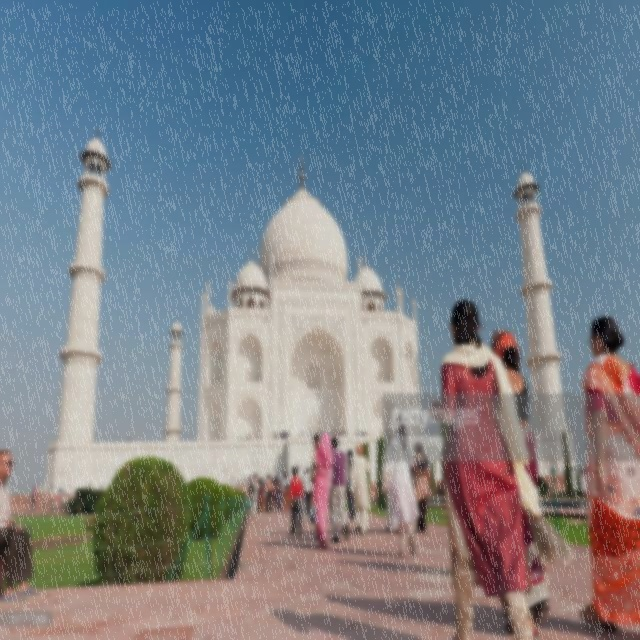pessoa: (426, 296, 536, 639), (578, 313, 640, 638), (488, 325, 552, 630), (0, 448, 41, 606), (380, 410, 420, 560), (228, 469, 292, 516), (326, 435, 352, 544), (314, 431, 334, 548), (348, 442, 371, 538), (380, 435, 400, 536), (413, 461, 434, 535), (288, 464, 304, 538), (562, 462, 587, 496), (346, 448, 356, 521), (248, 472, 260, 518), (302, 466, 312, 518), (310, 433, 320, 484), (313, 428, 348, 438), (308, 464, 314, 512), (86, 480, 106, 492), (540, 474, 552, 492), (28, 492, 36, 514), (51, 490, 59, 512), (298, 470, 306, 492), (273, 430, 289, 440), (62, 492, 68, 514), (236, 431, 248, 442), (126, 436, 141, 444), (42, 480, 49, 496), (32, 484, 40, 494), (356, 428, 366, 436), (60, 482, 66, 494), (380, 429, 389, 437), (58, 478, 62, 494), (306, 428, 310, 440), (215, 477, 219, 489), (299, 429, 304, 437), (310, 431, 314, 438)
